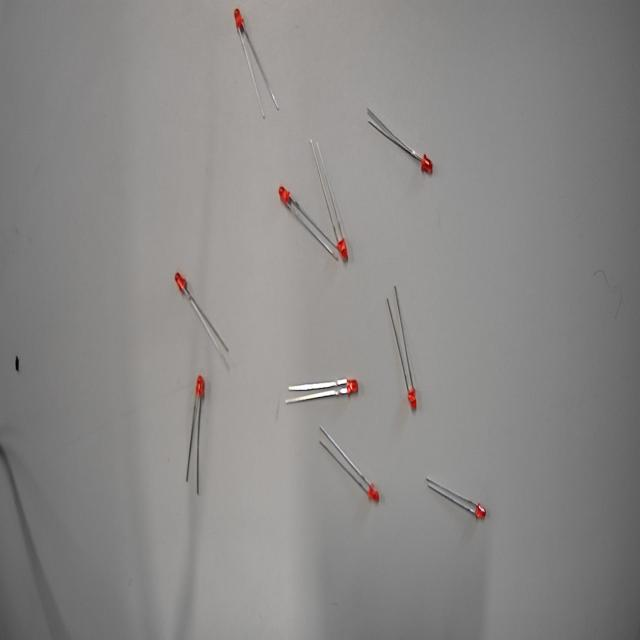LED_red: (164, 265, 210, 316), (458, 476, 494, 540), (329, 212, 359, 282), (334, 361, 370, 416), (355, 472, 393, 524), (221, 4, 265, 46), (412, 140, 443, 198), (184, 357, 213, 415), (393, 377, 428, 424), (270, 176, 302, 223)
